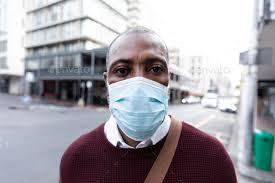Wearing Mask: (101, 25, 174, 139)
